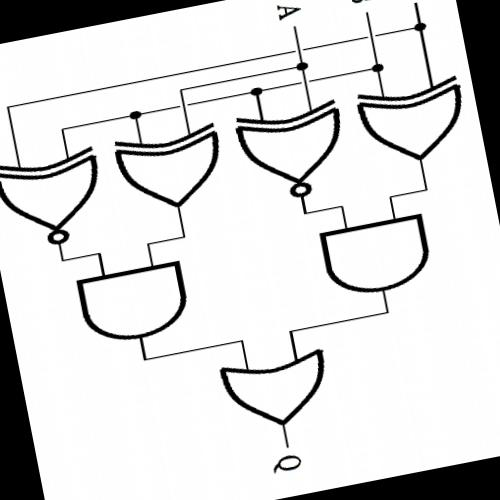and: (70, 256, 200, 354), (313, 209, 440, 306)
or: (212, 344, 342, 440)
xnor: (228, 96, 356, 212), (0, 142, 119, 259)
xor: (347, 70, 479, 175), (107, 117, 234, 222)
